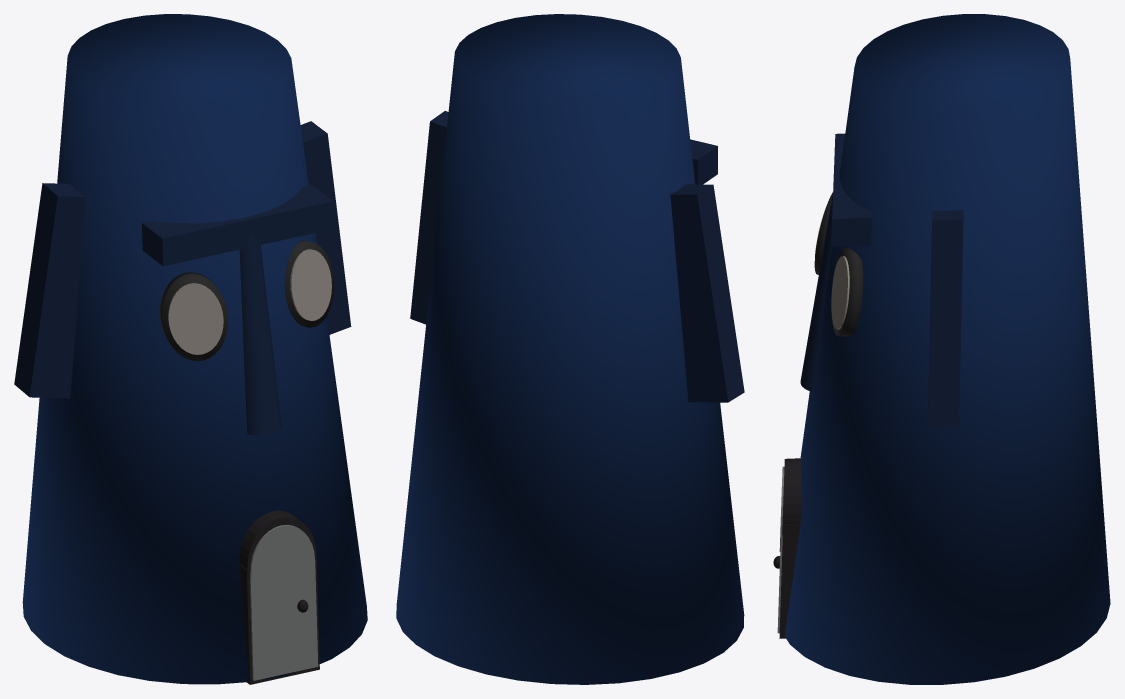
The model's file is squidward_house_1.obj.
3 views of the same model, side by side, from view 1: azimuth 30°, elevation 25°; view 2: azimuth 150°, elevation 25°; view 3: azimuth 270°, elevation 25° (orthographic). The views are drawn at different scales.
Visible parts, largest first — view 1: Cylinder.006; view 2: Cylinder.006; view 3: Cylinder.006.
Part boxes in pixels (x1=…): Cylinder.006: x1=14, y1=14, x2=367, y2=684; Cylinder.006: x1=396, y1=14, x2=744, y2=684; Cylinder.006: x1=773, y1=14, x2=1110, y2=684.
Bounding box in the file's own units: 3.03 × 5.11 × 2.81.
